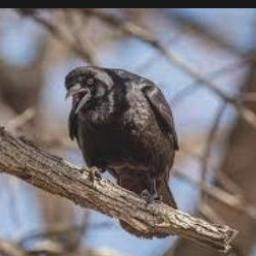Crow: (63, 65, 180, 239)
